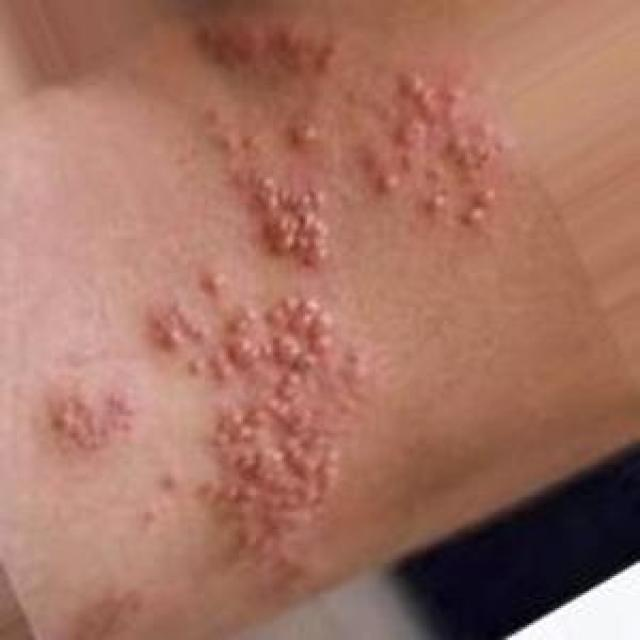Shingles: (152, 272, 370, 592), (360, 64, 505, 228), (232, 166, 338, 268), (44, 378, 144, 450)
